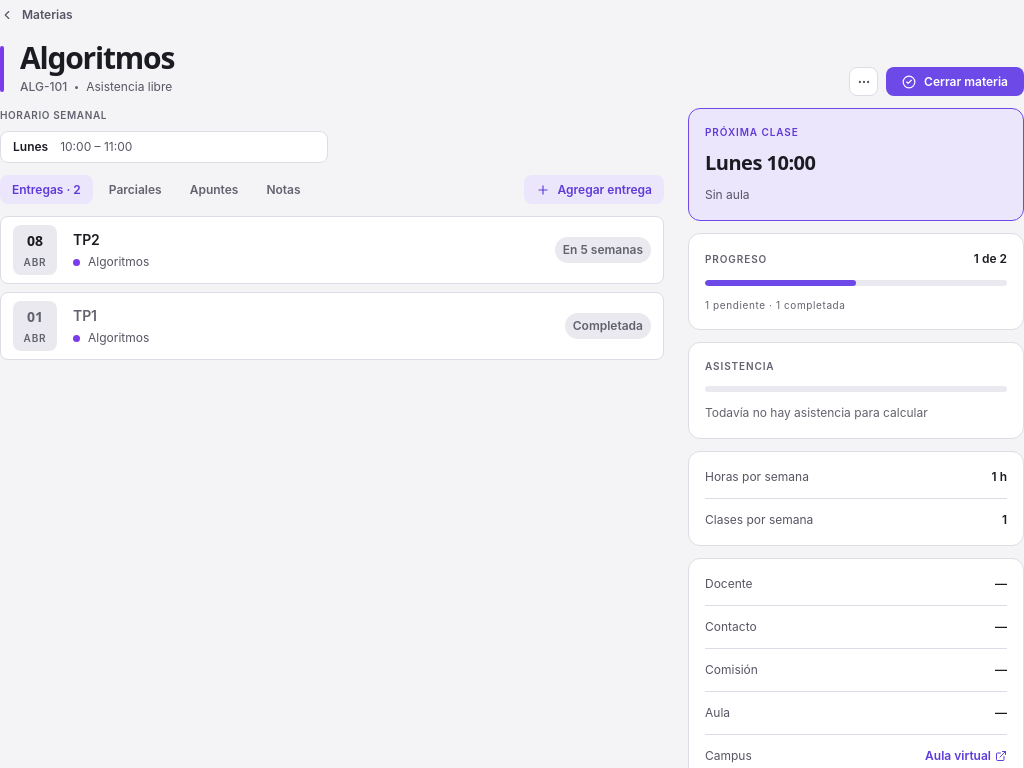
SubjectDetailContainer › cerrar materia › asks for no grade under a pass/fail program
Expected: the text "1 de 2" is shown, x1=974 y1=250 x2=1007 y2=268
Step 1. Click the button "Cerrar materia" → (955, 82), box x1=886 y1=67 x2=1023 y2=96
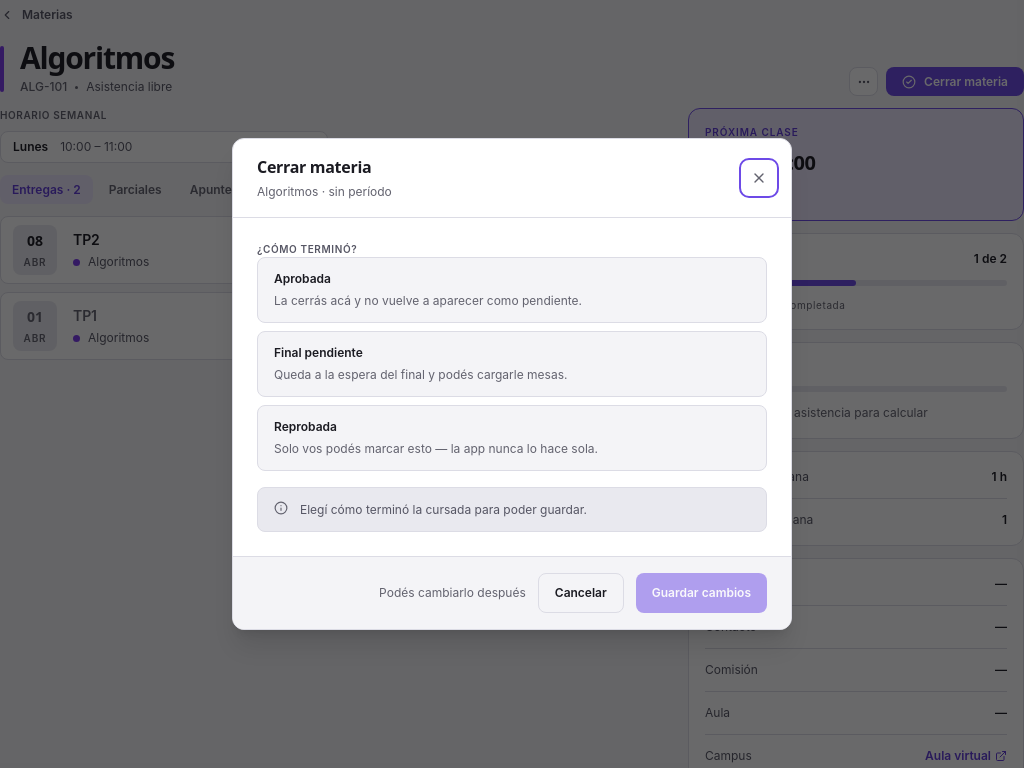
Step 2. Click the button "Aprobada" → (512, 290), box x1=257 y1=257 x2=767 y2=323
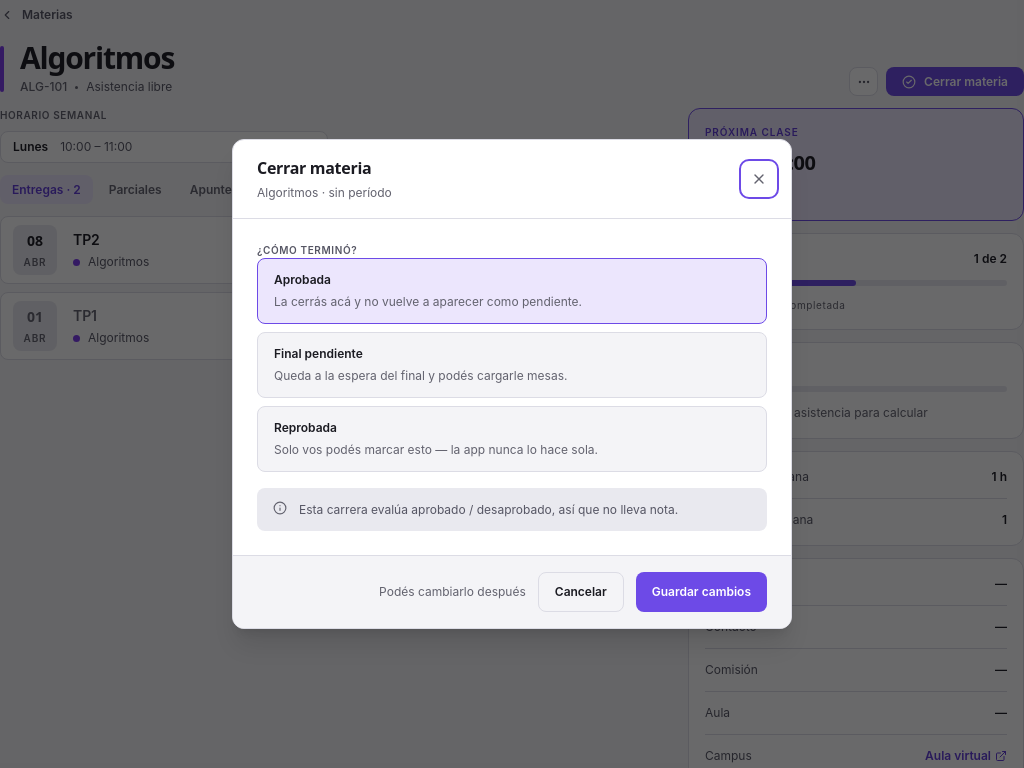
Result: the text "no lleva nota" is shown at x1=299 y1=502 x2=678 y2=517
